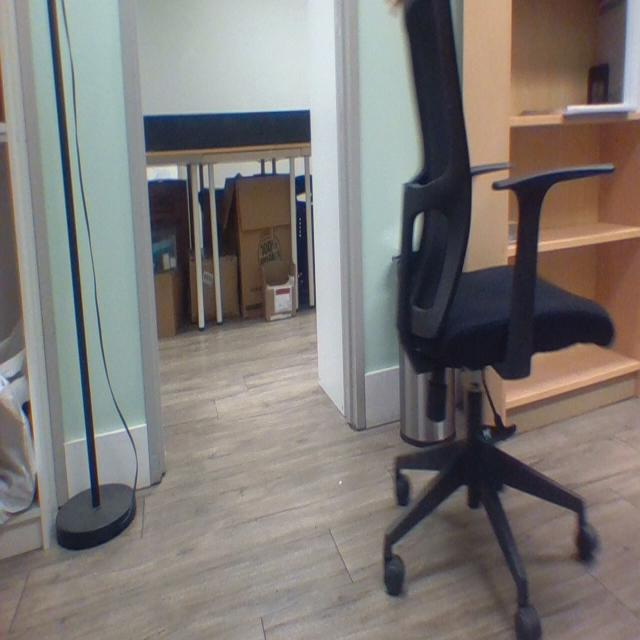black-chair: (382, 2, 617, 639)
